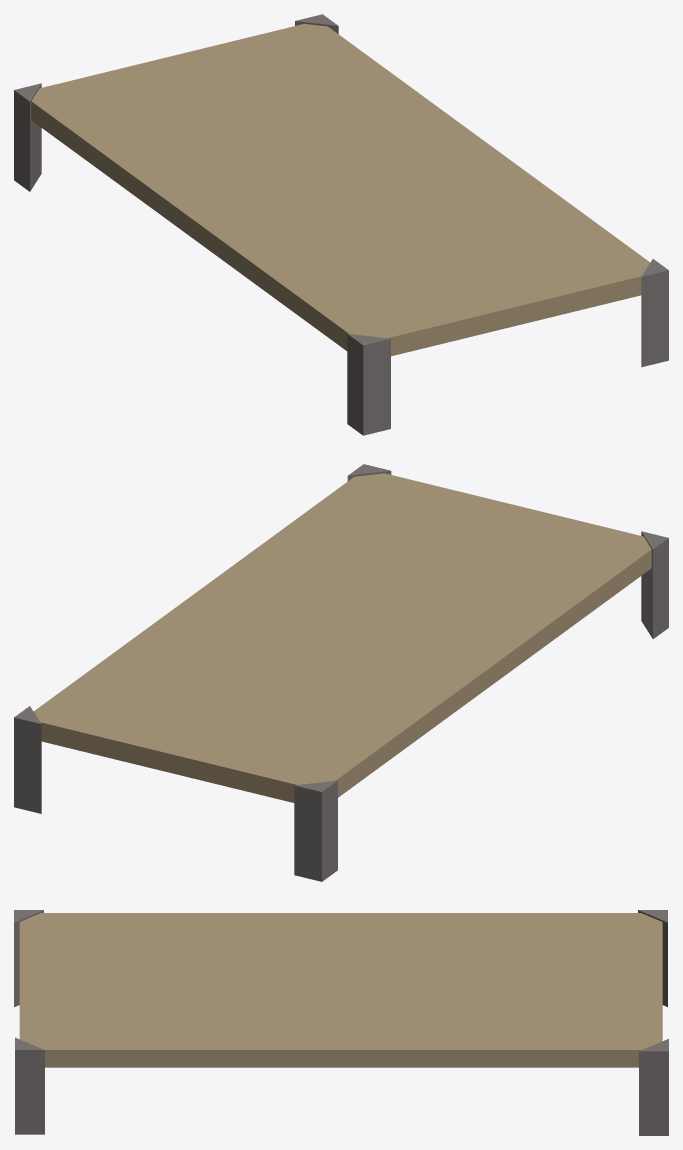
The model's file is SM_Bed_02.fbx.
3 views of the same model, one above another, from view 1: azimuth 30°, elevation 25°; view 2: azimuth 150°, elevation 25°; view 3: azimuth 270°, elevation 25° (orthographic). The views are drawn at different scales.
Parts seen in each view (by area): view 1: SM_Bed_02; view 2: SM_Bed_02; view 3: SM_Bed_02.
Part boxes in pixels (x1,y1,x2,y2): SM_Bed_02: (14,14,668,435); SM_Bed_02: (14,464,668,881); SM_Bed_02: (14,910,668,1135).
Bounding box in the file's own units: 135 × 37.72 × 265.
Materials: 1 (1 with a texture image).
